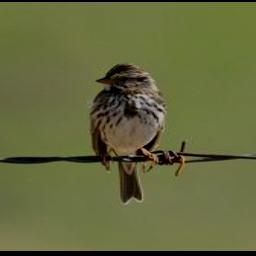Sparrow: (87, 61, 171, 202)
